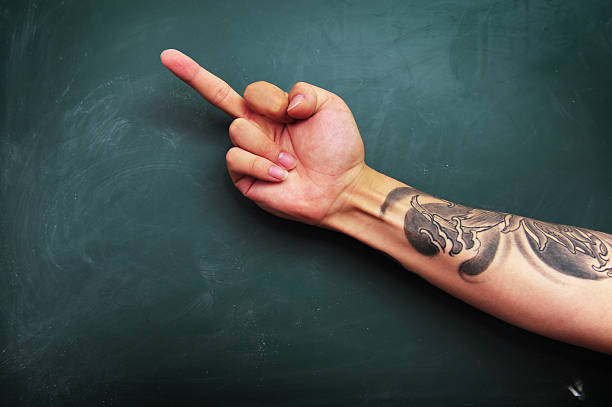insulting_gesture: (158, 41, 365, 227)
